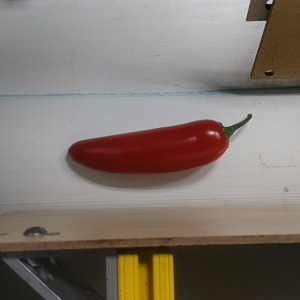Cut Point: (204, 117, 235, 158)
